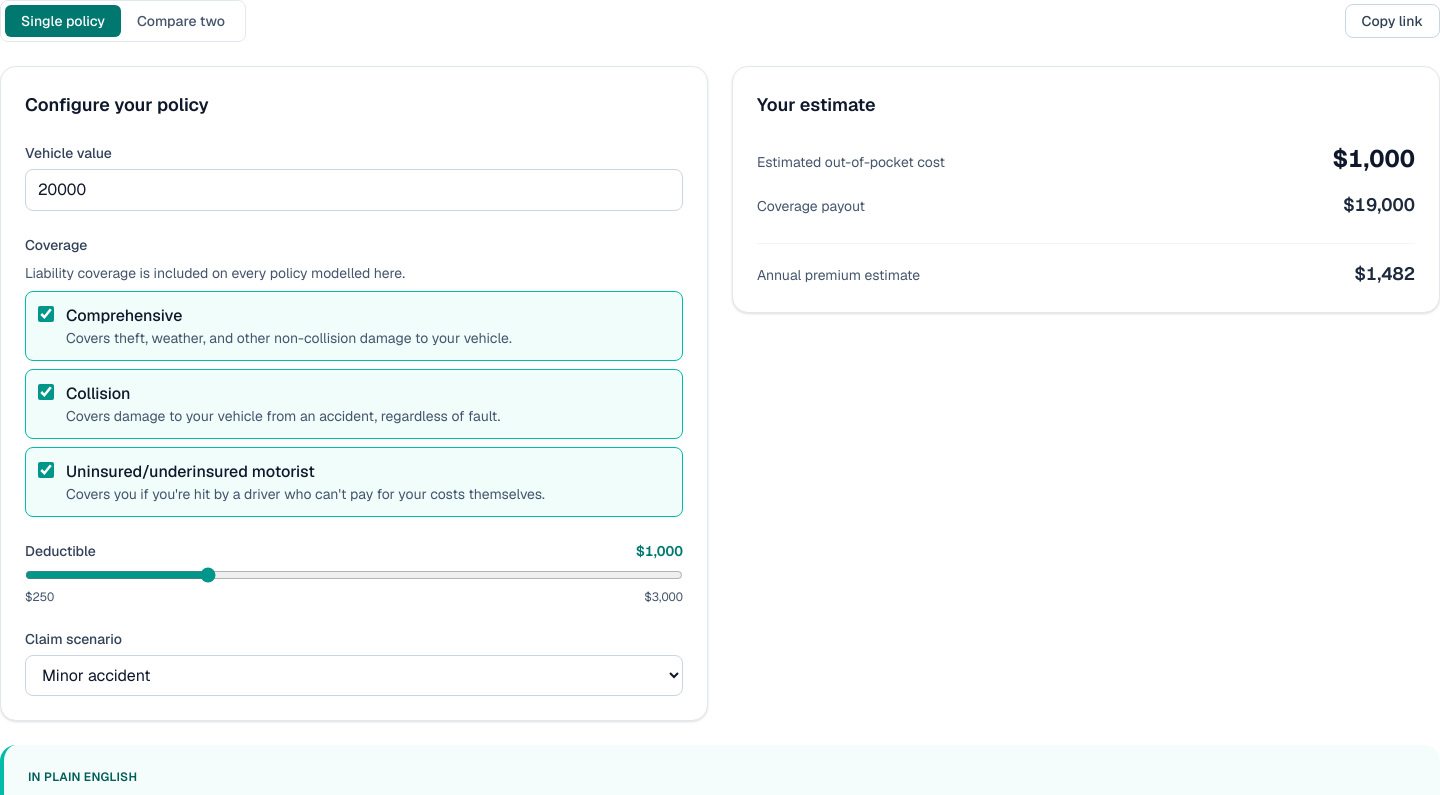
Scenario: ModellerWorkspace › switches back to single mode
Click the button "Compare two": (181,21) [121, 5, 241, 37]
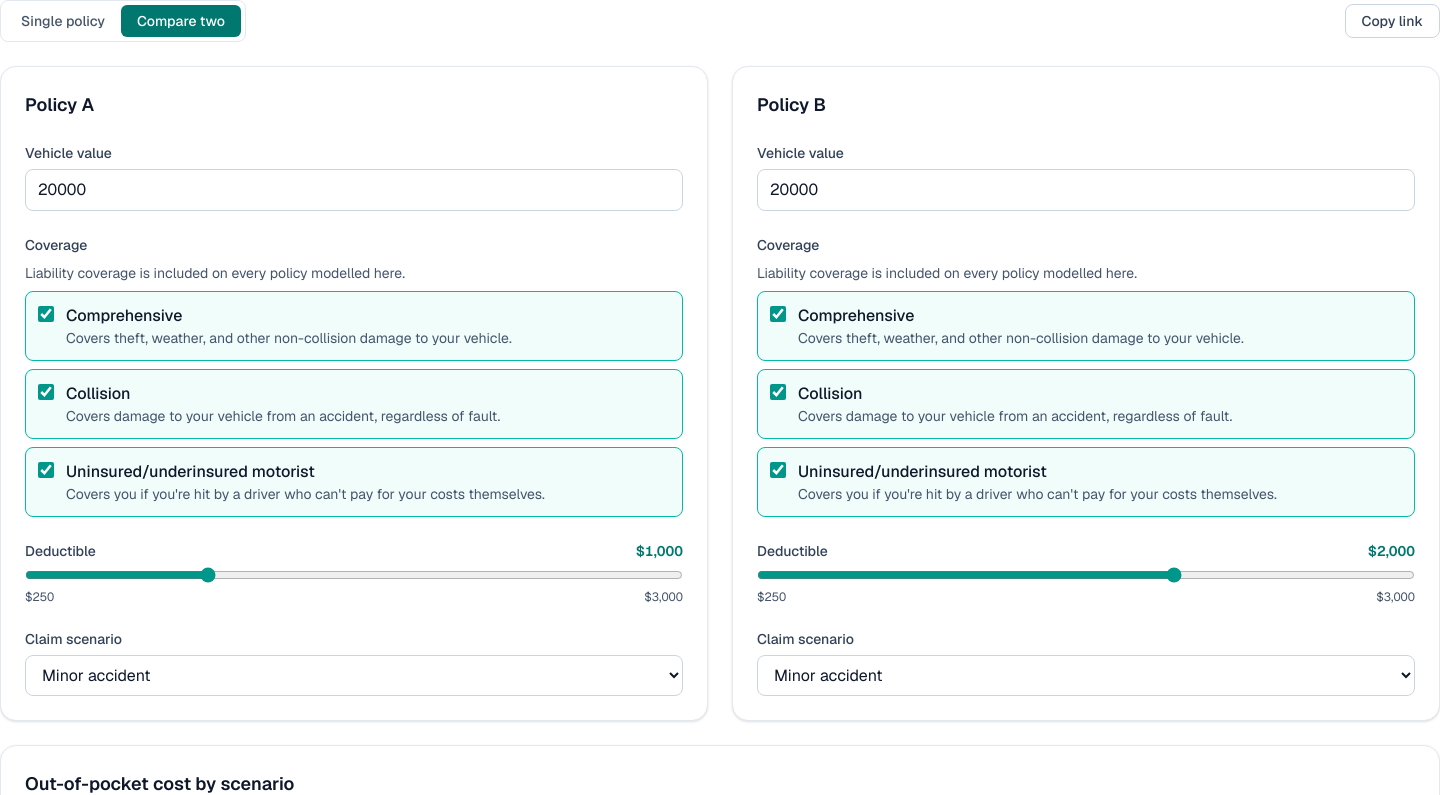
Click the button "Single policy": (63,21) [5, 5, 121, 37]
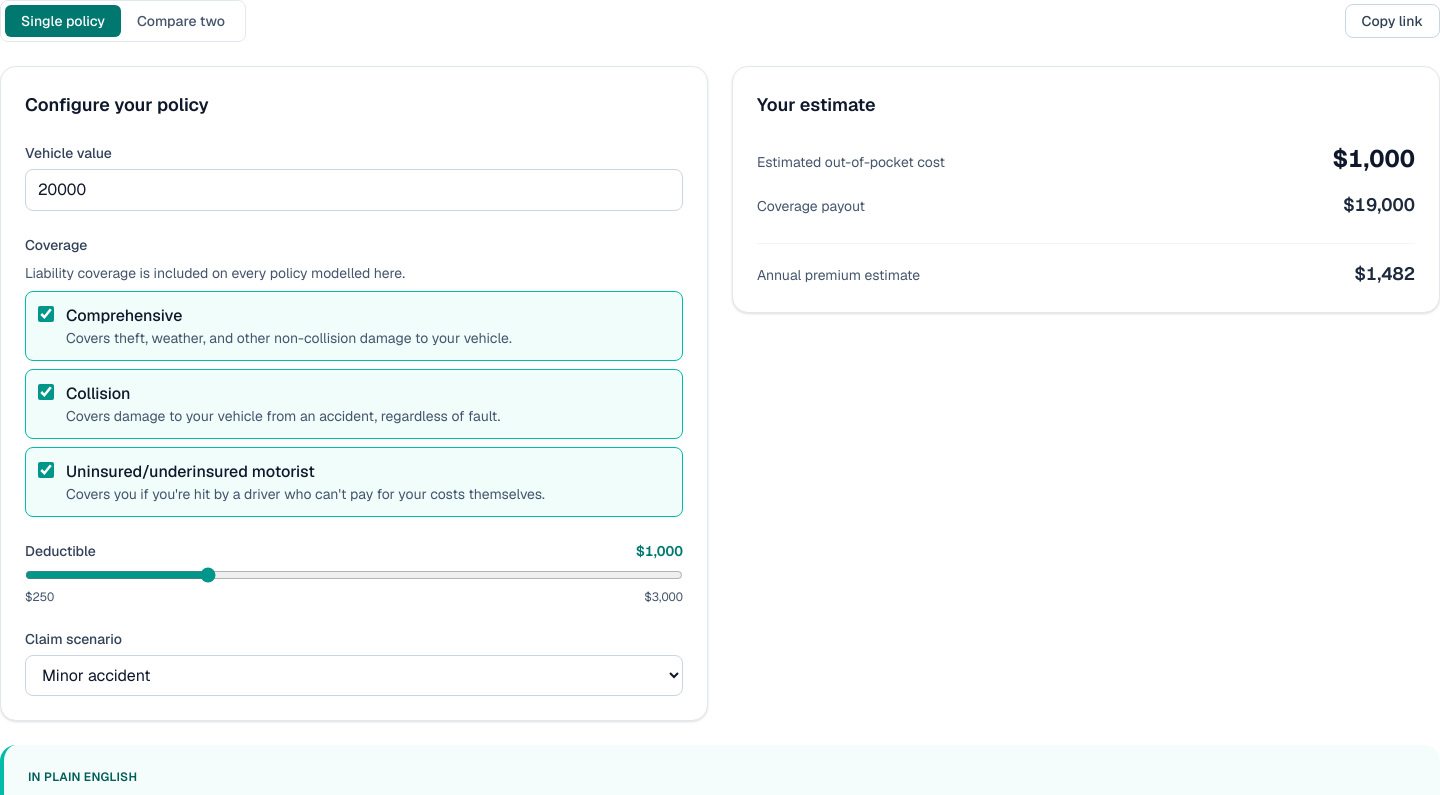
Check: the heading "Configure your policy" is shown, box [25, 93, 209, 116]
